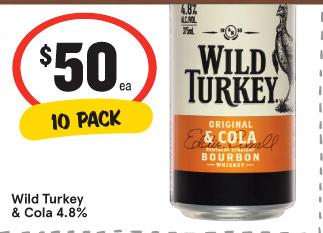description_block: (5, 186, 91, 222)
price_main: (13, 23, 154, 103)
product_image_block: (161, 6, 305, 226)
promo_text_block: (17, 101, 152, 138)
